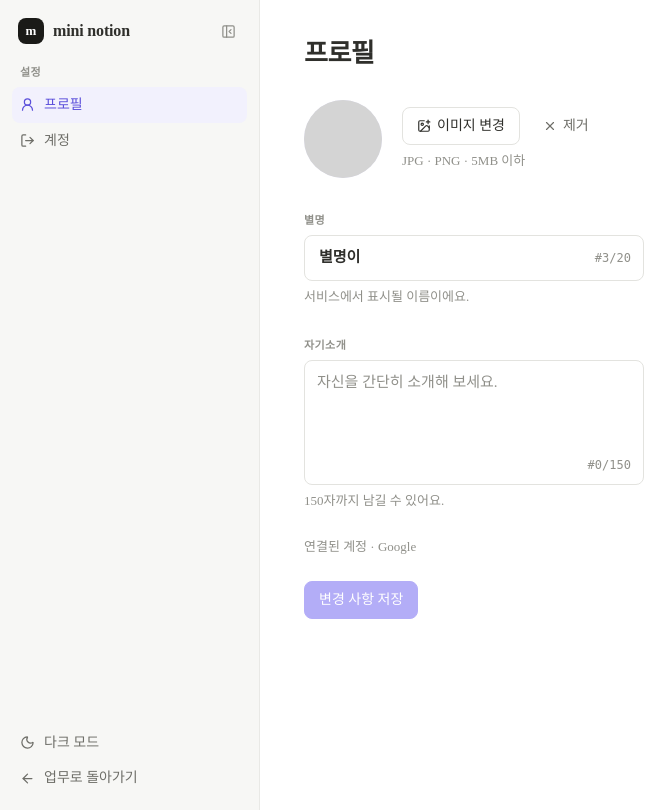
프로필 이미지 (Supabase Storage 업로드) › 제거 후 저장하면 image_path가 null로 저장되고 이전 파일이 삭제된다
Expected: the field named "별명" holds "별명이", 317,245 -> 585,271
// image_path가 있으므로 조립 URL 아바타와 제거 버튼이 보인다.
Step 1. Click the button "제거" → point(566, 126), box 528,107 -> 604,145
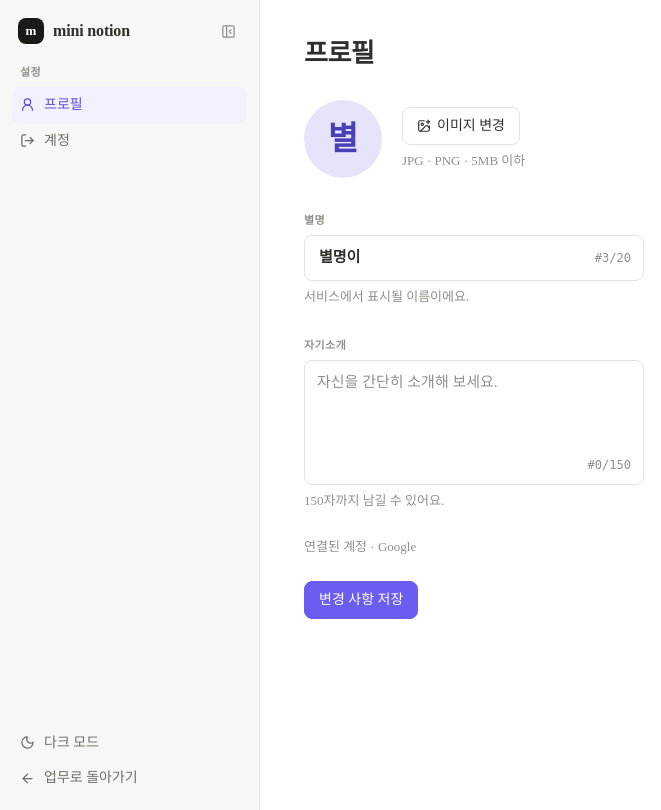
Step 2. Click the button "변경 사항 저장" → point(361, 600), box 304,581 -> 418,619
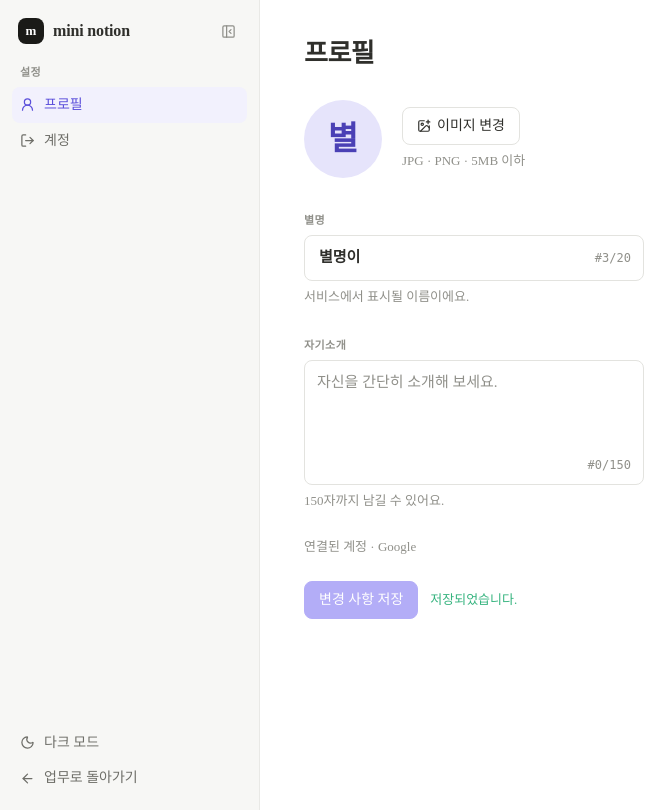
Now the text "저장되었습니다." is shown, box 430,590 -> 517,610
